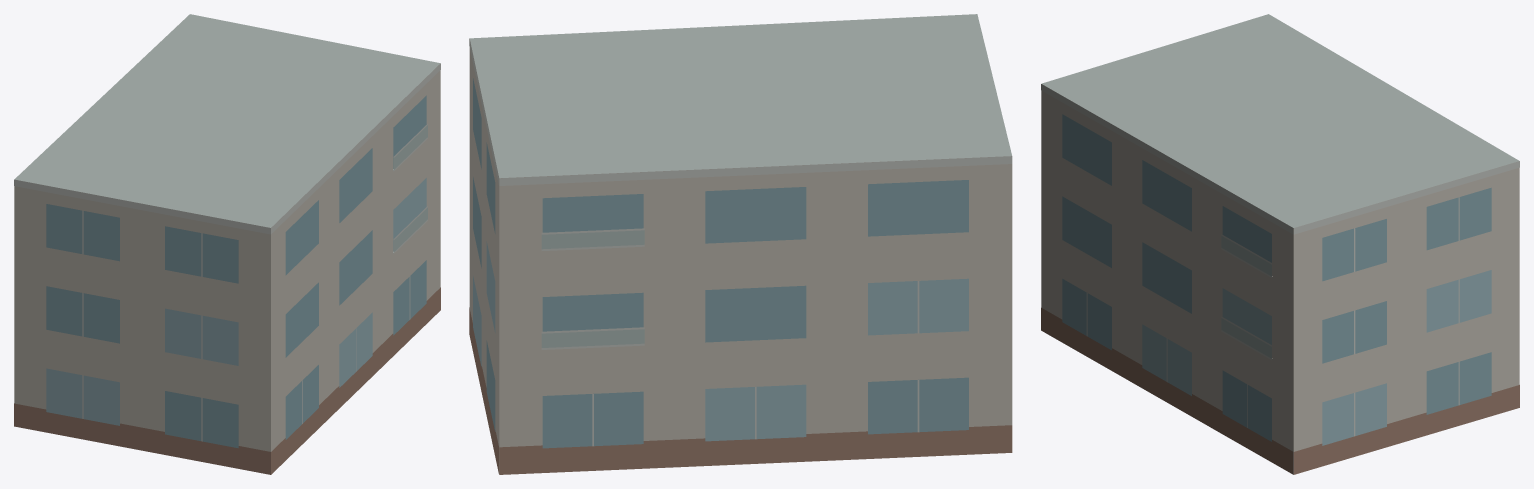
File: survey-upis-32693660.glb
The picture shows the model from 3 angles, left to right: view 1: azimuth 30°, elevation 25°; view 2: azimuth 150°, elevation 25°; view 3: azimuth 270°, elevation 25°; orthographic projection. The views are drawn at different scales.
Visible parts, largest first — view 1: survey-upis-32693660.tmp; view 2: survey-upis-32693660.tmp; view 3: survey-upis-32693660.tmp.
Part boxes in pixels (x1,y1,x2,y2): survey-upis-32693660.tmp: (14,14,440,474); survey-upis-32693660.tmp: (469,14,1012,474); survey-upis-32693660.tmp: (1041,14,1519,474).
Bounding box in the file's own units: 17.04 × 9.15 × 16.09.
